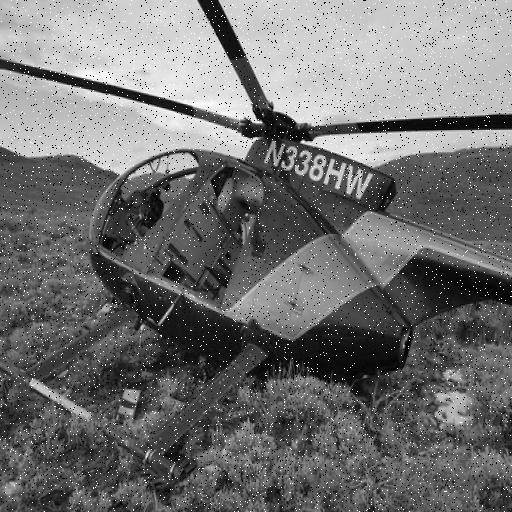helicopter: (1, 1, 512, 466)
